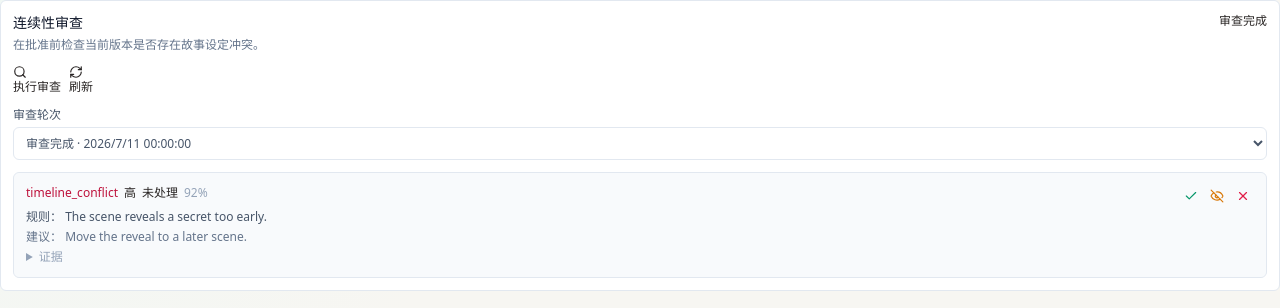
Test: ReviewIssuePanel › updates an issue to false_positive in the selected run and refetches it
Click the button named "标记为误报". click: (1243, 196)
box: [1232,185,1254,207]
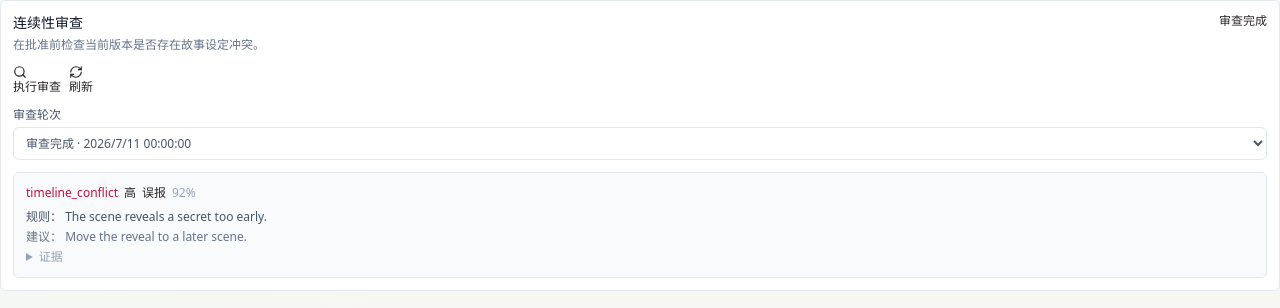
Result: the text "误报" is shown at [142,185,166,201]
